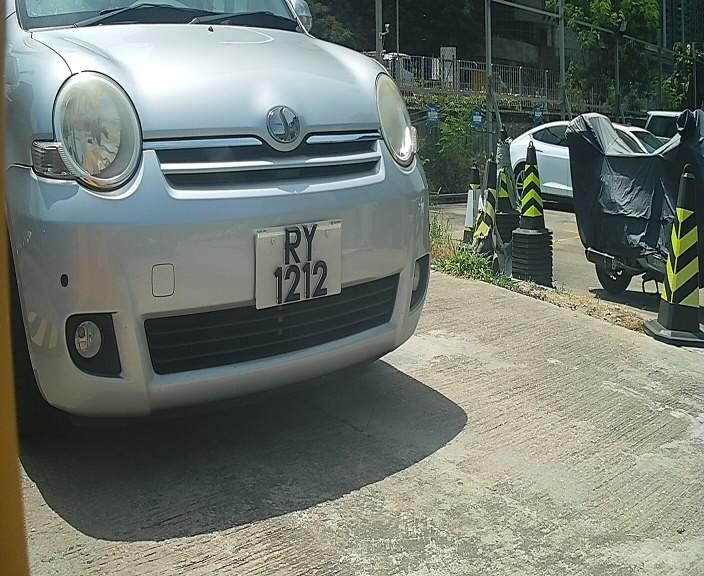License Plate: (246, 211, 349, 319)
